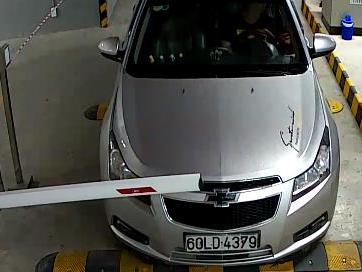number: (183, 232, 261, 251)
